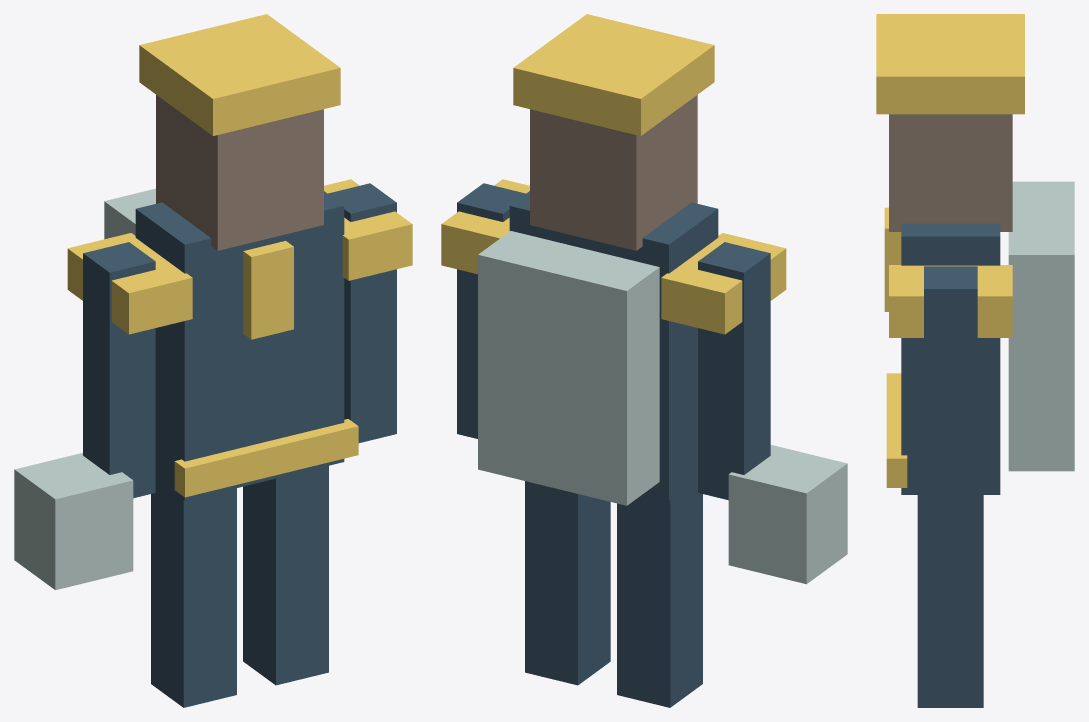
File: 12_rook_gantryn_pilgrim_under_executive.glb
The picture shows the model from 3 angles, left to right: view 1: azimuth 30°, elevation 25°; view 2: azimuth 150°, elevation 25°; view 3: azimuth 270°, elevation 25°; orthographic projection.
Visible parts, largest first — view 1: Rook Gantryn, Pilgrim under Executive; view 2: Rook Gantryn, Pilgrim under Executive; view 3: Rook Gantryn, Pilgrim under Executive.
Part boxes in pixels (bbox=[...]): Rook Gantryn, Pilgrim under Executive: bbox=[14, 14, 412, 707]; Rook Gantryn, Pilgrim under Executive: bbox=[441, 14, 847, 707]; Rook Gantryn, Pilgrim under Executive: bbox=[876, 14, 1074, 707].
Bounding box in the file's own units: 0.9917 × 1.67 × 0.4784.
